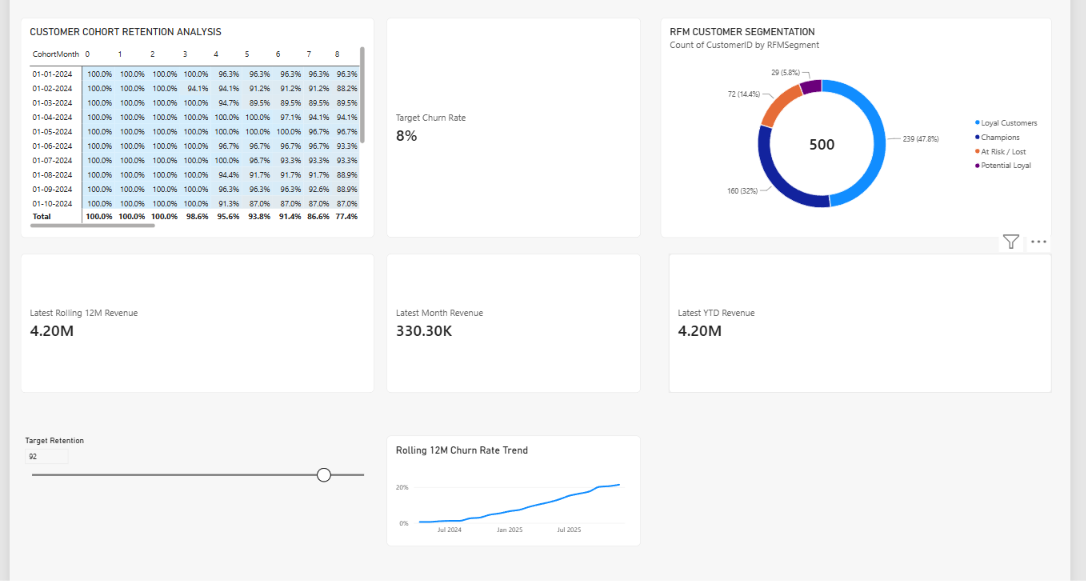

What the dashboard file says about the page in this screenshot:
{"tool":"powerbi","page":{"name":"Page 2","canvas":[1920,1080],"ordinal":1},"visuals":[{"type":"pivotTable","title":"CUSTOMER COHORT RETENTION ANALYSIS","fields":{"Columns":["FactTransaction.CohortPeriod"],"Rows":["DimCustomer.CohortMonth"],"Values":["DimCustomer.Retention Rate"]},"box":[20,50,640,398],"z":0},{"type":"donutChart","title":"RFM CUSTOMER SEGMENTATION","fields":{"Category":["DimCustomer.RFMSegment"],"Y":["CountNonNull(DimCustomer.CustomerID)"]},"box":[1178,50,708,398],"z":1000},{"type":"cardVisual","fields":{"Data":["DimCustomer.Target Churn Rate"]},"box":[682,50,460,398],"z":1001},{"type":"slicer","fields":{"Values":["Target Retention.Target Retention"]},"box":[20,808,640,200],"z":1002},{"type":"cardVisual","fields":{"Data":["DimCustomer.Latest Month Revenue"]},"box":[682,478,460,252],"z":1003},{"type":"cardVisual","fields":{"Data":["DimCustomer.Latest YTD Revenue"]},"box":[1192,478,694,252],"z":1004},{"type":"cardVisual","fields":{"Data":["DimCustomer.Latest Rolling 12M Revenue"]},"box":[20,478,640,252],"z":1005},{"type":"lineChart","title":"Rolling 12M Churn Rate Trend","fields":{"Category":["DimDate.YearMonth"],"Y":["DimCustomer.Rolling 12M Churn Rate"]},"box":[682,808,460,200],"z":1006}]}

Visuals, with their boxes on the page's 1920x1080 design canvas (x1, y1, x2, y2). These are canvas units, not pixel positions in the 1086x581 screenshot, which may show the page scaled, cropped or inside an application window:
"CUSTOMER COHORT RETENTION ANALYSIS" pivotTable: select_region(20, 50, 660, 448)
"RFM CUSTOMER SEGMENTATION" donutChart: select_region(1178, 50, 1886, 448)
cardVisual - DimCustomer.Target Churn Rate: select_region(682, 50, 1142, 448)
slicer - Target Retention.Target Retention: select_region(20, 808, 660, 1008)
cardVisual - DimCustomer.Latest Month Revenue: select_region(682, 478, 1142, 730)
cardVisual - DimCustomer.Latest YTD Revenue: select_region(1192, 478, 1886, 730)
cardVisual - DimCustomer.Latest Rolling 12M Revenue: select_region(20, 478, 660, 730)
"Rolling 12M Churn Rate Trend" lineChart: select_region(682, 808, 1142, 1008)
